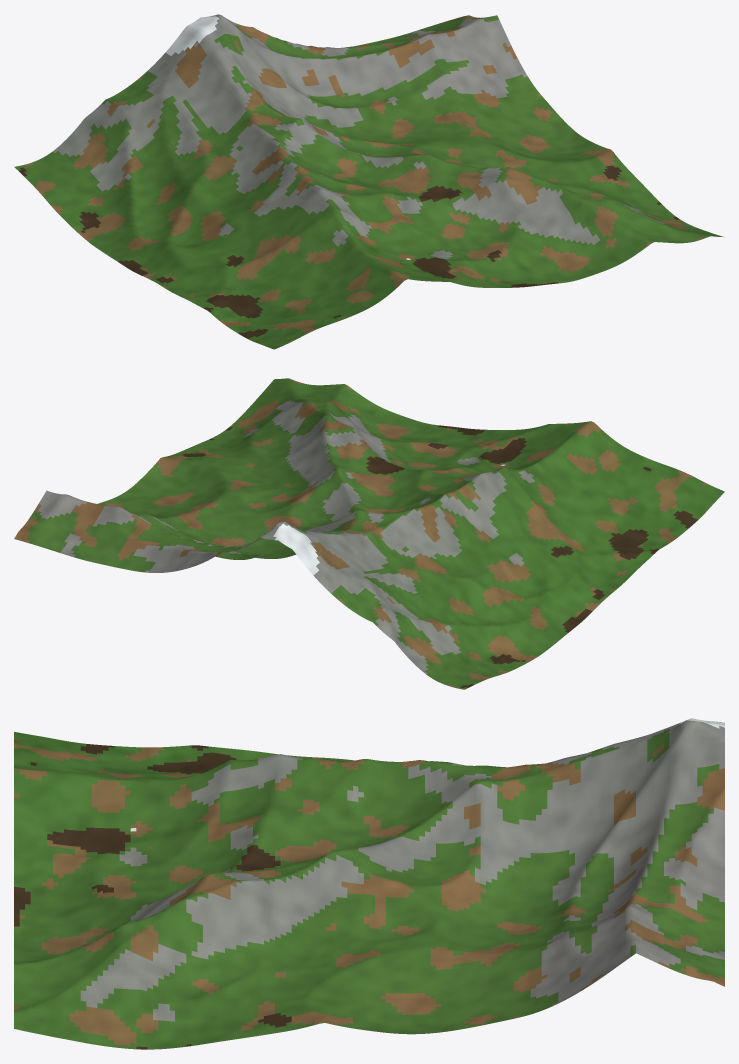
The model's file is chunk_1_1.glb.
The picture shows the model from 3 angles, top to bottom: view 1: azimuth 30°, elevation 25°; view 2: azimuth 150°, elevation 25°; view 3: azimuth 270°, elevation 25°; orthographic projection. The views are drawn at different scales.
Visible parts, largest first — view 1: Surface_Grass, Surface_Gravel, Surface_Dirt, Surface_Mud, Surface_Snow; view 2: Surface_Grass, Surface_Gravel, Surface_Dirt, Surface_Mud, Surface_Snow; view 3: Surface_Grass, Surface_Gravel, Surface_Dirt, Surface_Mud.
Boxes of the visible parts, left/top/right/bottom form: Surface_Grass: left=14, top=15, right=724, bottom=349; Surface_Gravel: left=53, top=14, right=664, bottom=258; Surface_Dirt: left=25, top=15, right=703, bottom=341; Surface_Mud: left=18, top=165, right=679, bottom=338; Surface_Snow: left=165, top=16, right=410, bottom=259; Surface_Grass: left=27, top=378, right=724, bottom=689; Surface_Gravel: left=38, top=400, right=534, bottom=674; Surface_Dirt: left=14, top=381, right=706, bottom=687; Surface_Mud: left=182, top=425, right=698, bottom=687; Surface_Snow: left=273, top=464, right=505, bottom=575; Surface_Grass: left=14, top=729, right=724, bottom=1049; Surface_Gravel: left=80, top=720, right=724, bottom=1021; Surface_Dirt: left=14, top=738, right=724, bottom=1045; Surface_Mud: left=14, top=744, right=343, bottom=1049.
Bounding box in the file's own units: 256 × 71.57 × 256.
